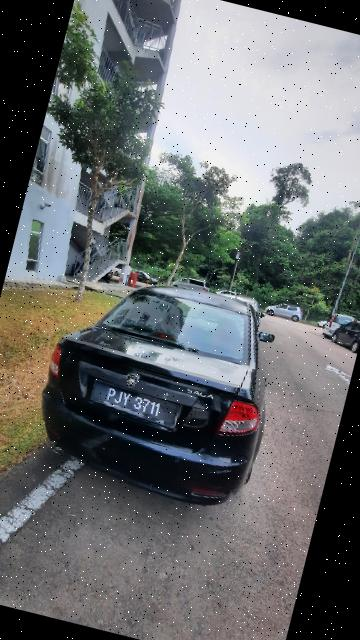License_Plate: (86, 373, 188, 436)
car: (19, 254, 299, 522)
